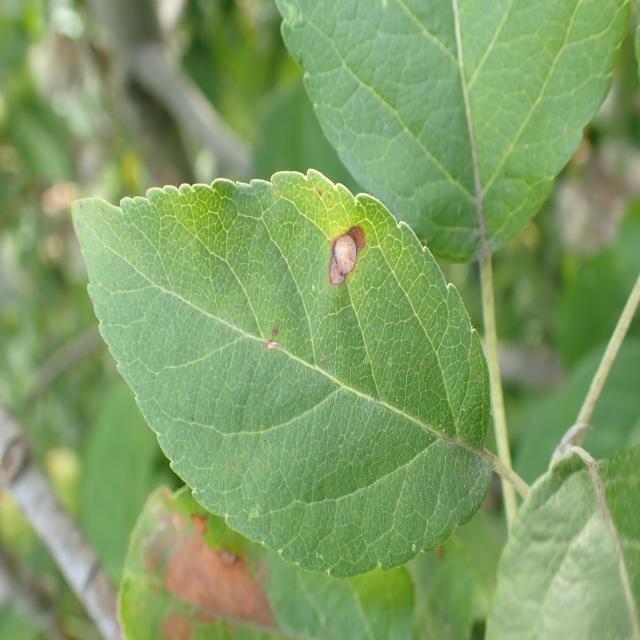Black Rot: (314, 206, 384, 305)
